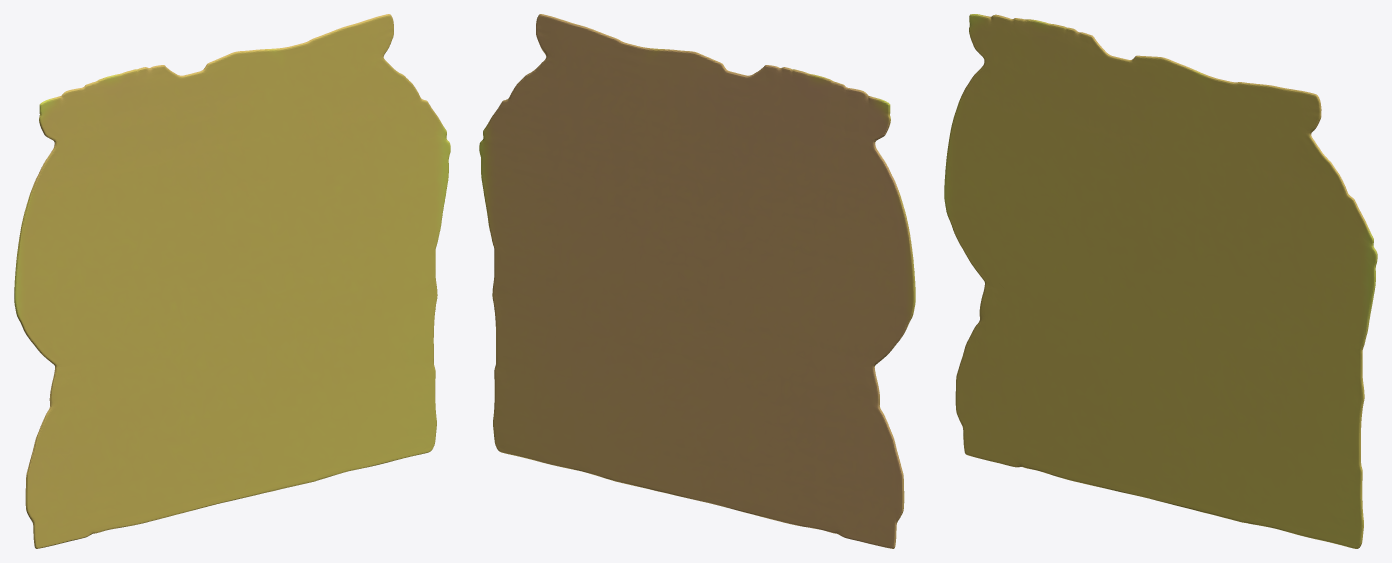
Rendered from iter_1.glb.
The picture shows the model from 3 angles, left to right: view 1: azimuth 30°, elevation 25°; view 2: azimuth 150°, elevation 25°; view 3: azimuth 330°, elevation 25°; orthographic projection.
Parts seen in each view (by area): view 1: textured_mesh; view 2: textured_mesh; view 3: textured_mesh.
Boxes of the visible parts, box(x1,y1,x2,y2) form: textured_mesh: box(14, 14, 450, 548); textured_mesh: box(479, 14, 915, 548); textured_mesh: box(944, 14, 1377, 548).
Bounding box in the file's own units: 2 × 2 × 0.0132.
